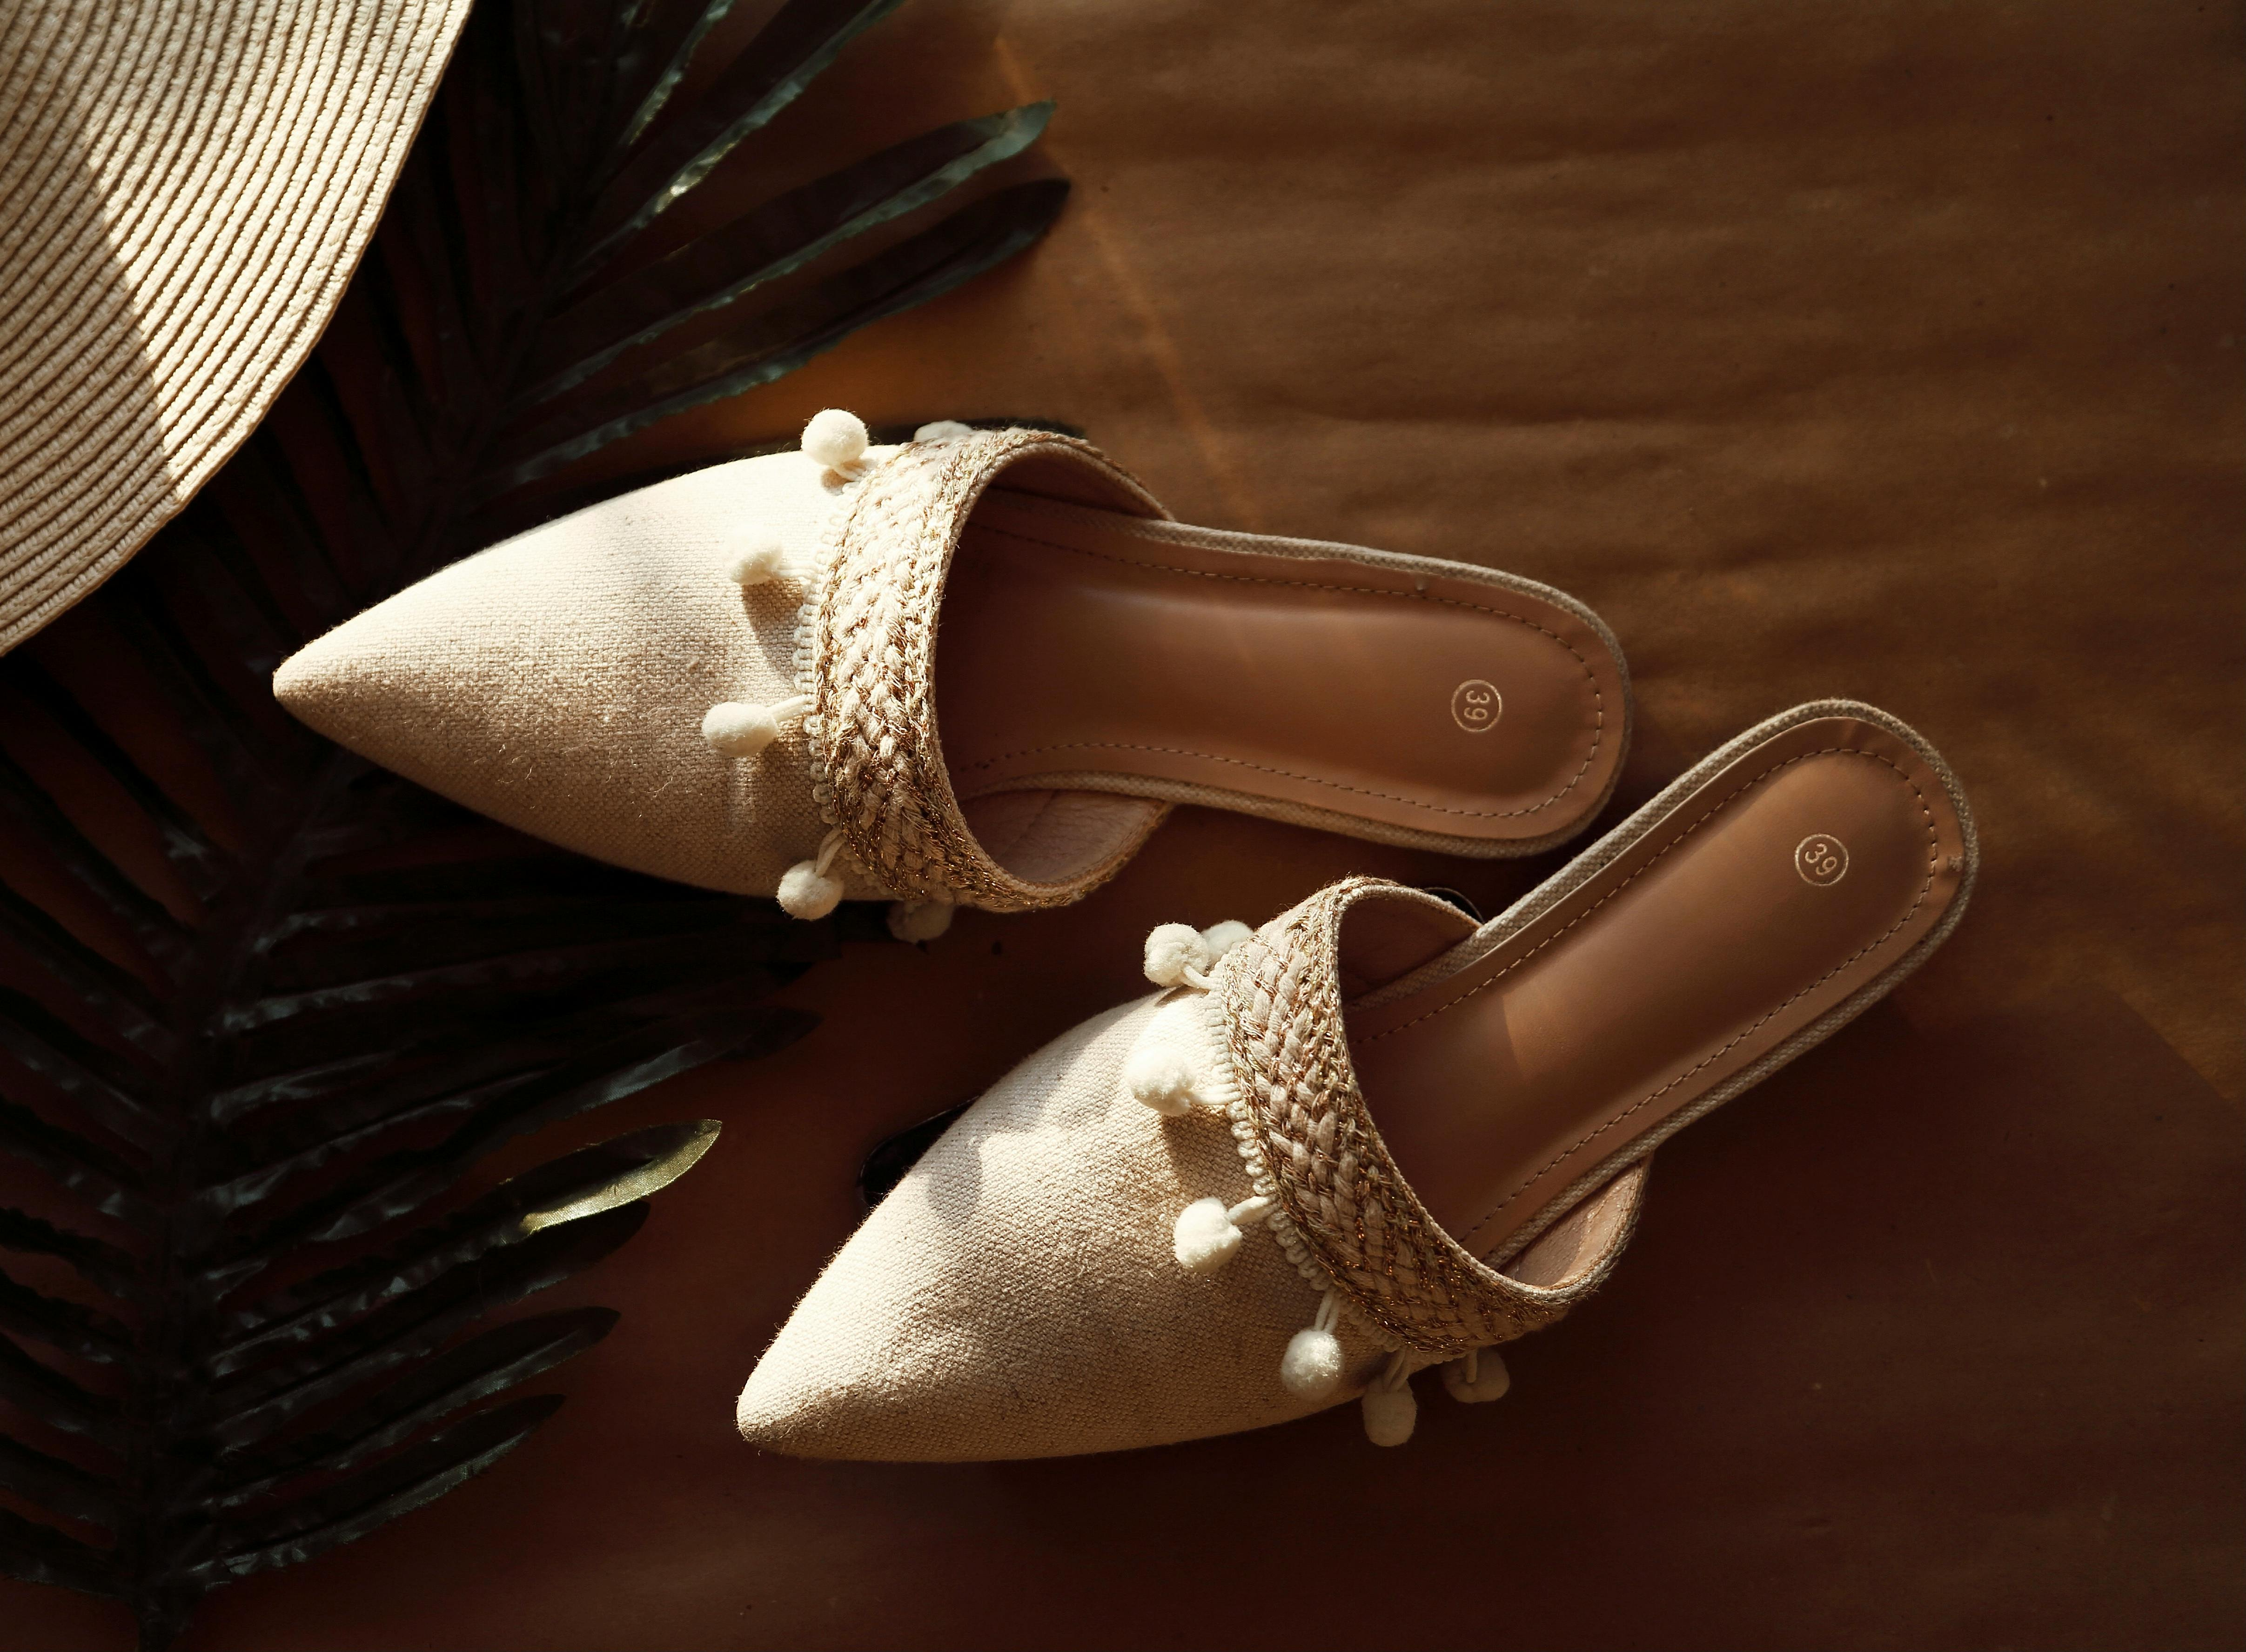Footwear: (258, 394, 1983, 1523), (281, 416, 1643, 880)
